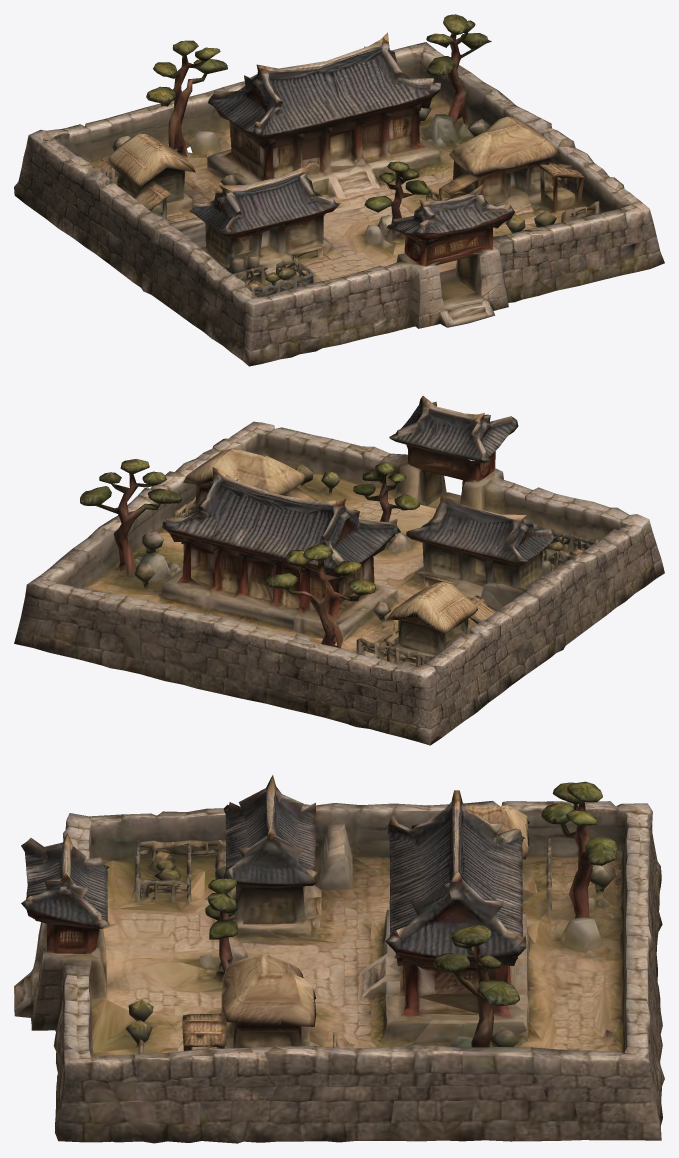
The model's file is city-county-korea.glb.
3 views of the same model, one above another, from view 1: azimuth 30°, elevation 25°; view 2: azimuth 150°, elevation 25°; view 3: azimuth 270°, elevation 25° (orthographic). The views are drawn at different scales.
Visible parts, largest first — view 1: tripo_node_3d7e7e8c-c34a-4de3-b5d6-608e0b2673f1; view 2: tripo_node_3d7e7e8c-c34a-4de3-b5d6-608e0b2673f1; view 3: tripo_node_3d7e7e8c-c34a-4de3-b5d6-608e0b2673f1.
Boxes of the visible parts, bbox=[...] form: tripo_node_3d7e7e8c-c34a-4de3-b5d6-608e0b2673f1: bbox=[14, 14, 664, 366]; tripo_node_3d7e7e8c-c34a-4de3-b5d6-608e0b2673f1: bbox=[14, 396, 664, 745]; tripo_node_3d7e7e8c-c34a-4de3-b5d6-608e0b2673f1: bbox=[14, 775, 664, 1143].
Bounding box in the file's own units: 0.658 × 0.2227 × 0.68.
1 material, 1 textured.
